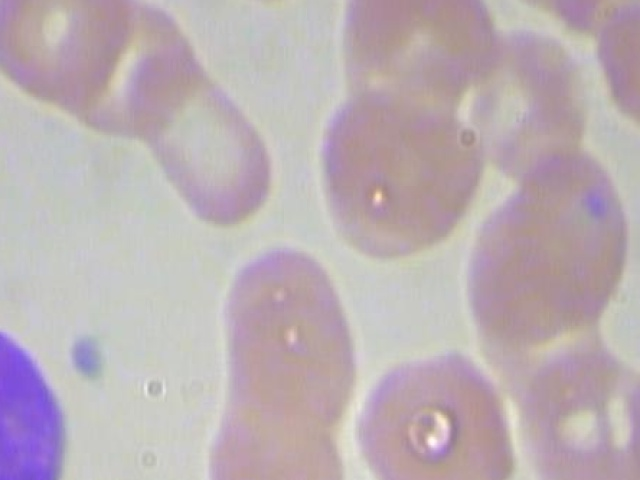Platelets: (59, 331, 116, 391)
RBC: (117, 41, 283, 248), (316, 91, 499, 272), (350, 340, 528, 480), (48, 0, 199, 145), (220, 285, 358, 433), (509, 337, 640, 480), (336, 0, 501, 113), (0, 0, 130, 110), (203, 385, 349, 480), (617, 335, 640, 480), (481, 0, 635, 20), (203, 464, 349, 480), (160, 0, 318, 4)
WBC: (0, 293, 74, 480)
